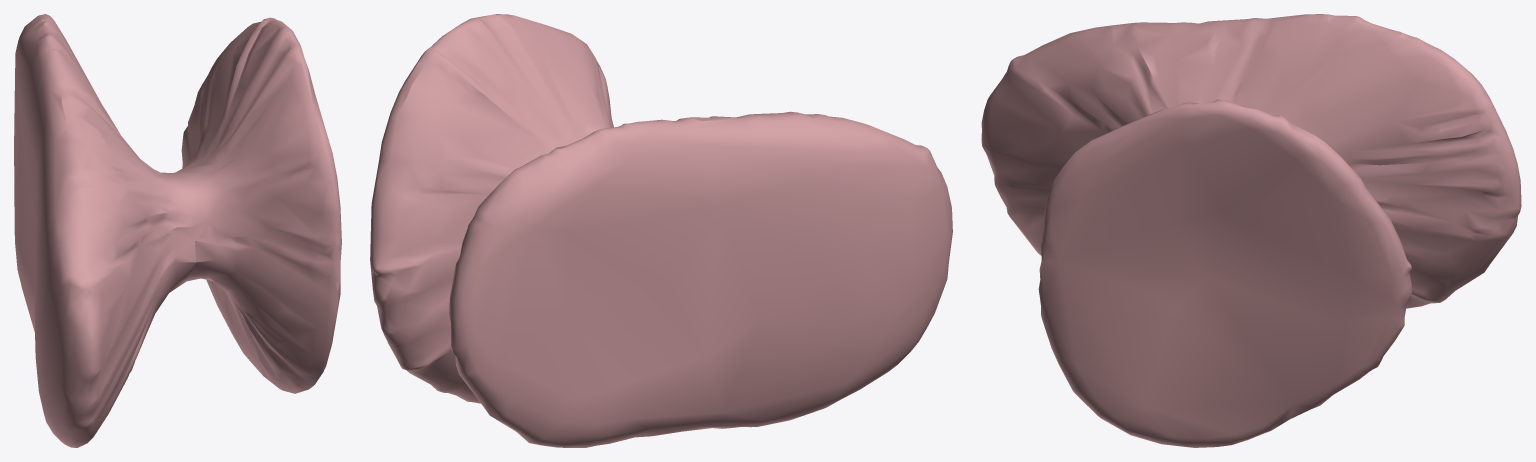
File: fma49147_fj1335.glb
3 views of the same model, side by side, from view 1: azimuth 30°, elevation 25°; view 2: azimuth 150°, elevation 25°; view 3: azimuth 270°, elevation 25° (orthographic). The views are drawn at different scales.
Visible parts, largest first — view 1: FMA49147_FJ1335; view 2: FMA49147_FJ1335; view 3: FMA49147_FJ1335.
Boxes of the visible parts, x1,y1,x2,y2 form: FMA49147_FJ1335: [14, 14, 341, 447]; FMA49147_FJ1335: [370, 14, 952, 447]; FMA49147_FJ1335: [981, 14, 1521, 447].
Bounding box in the file's own units: 0.00909 × 0.00845 × 0.0115.
